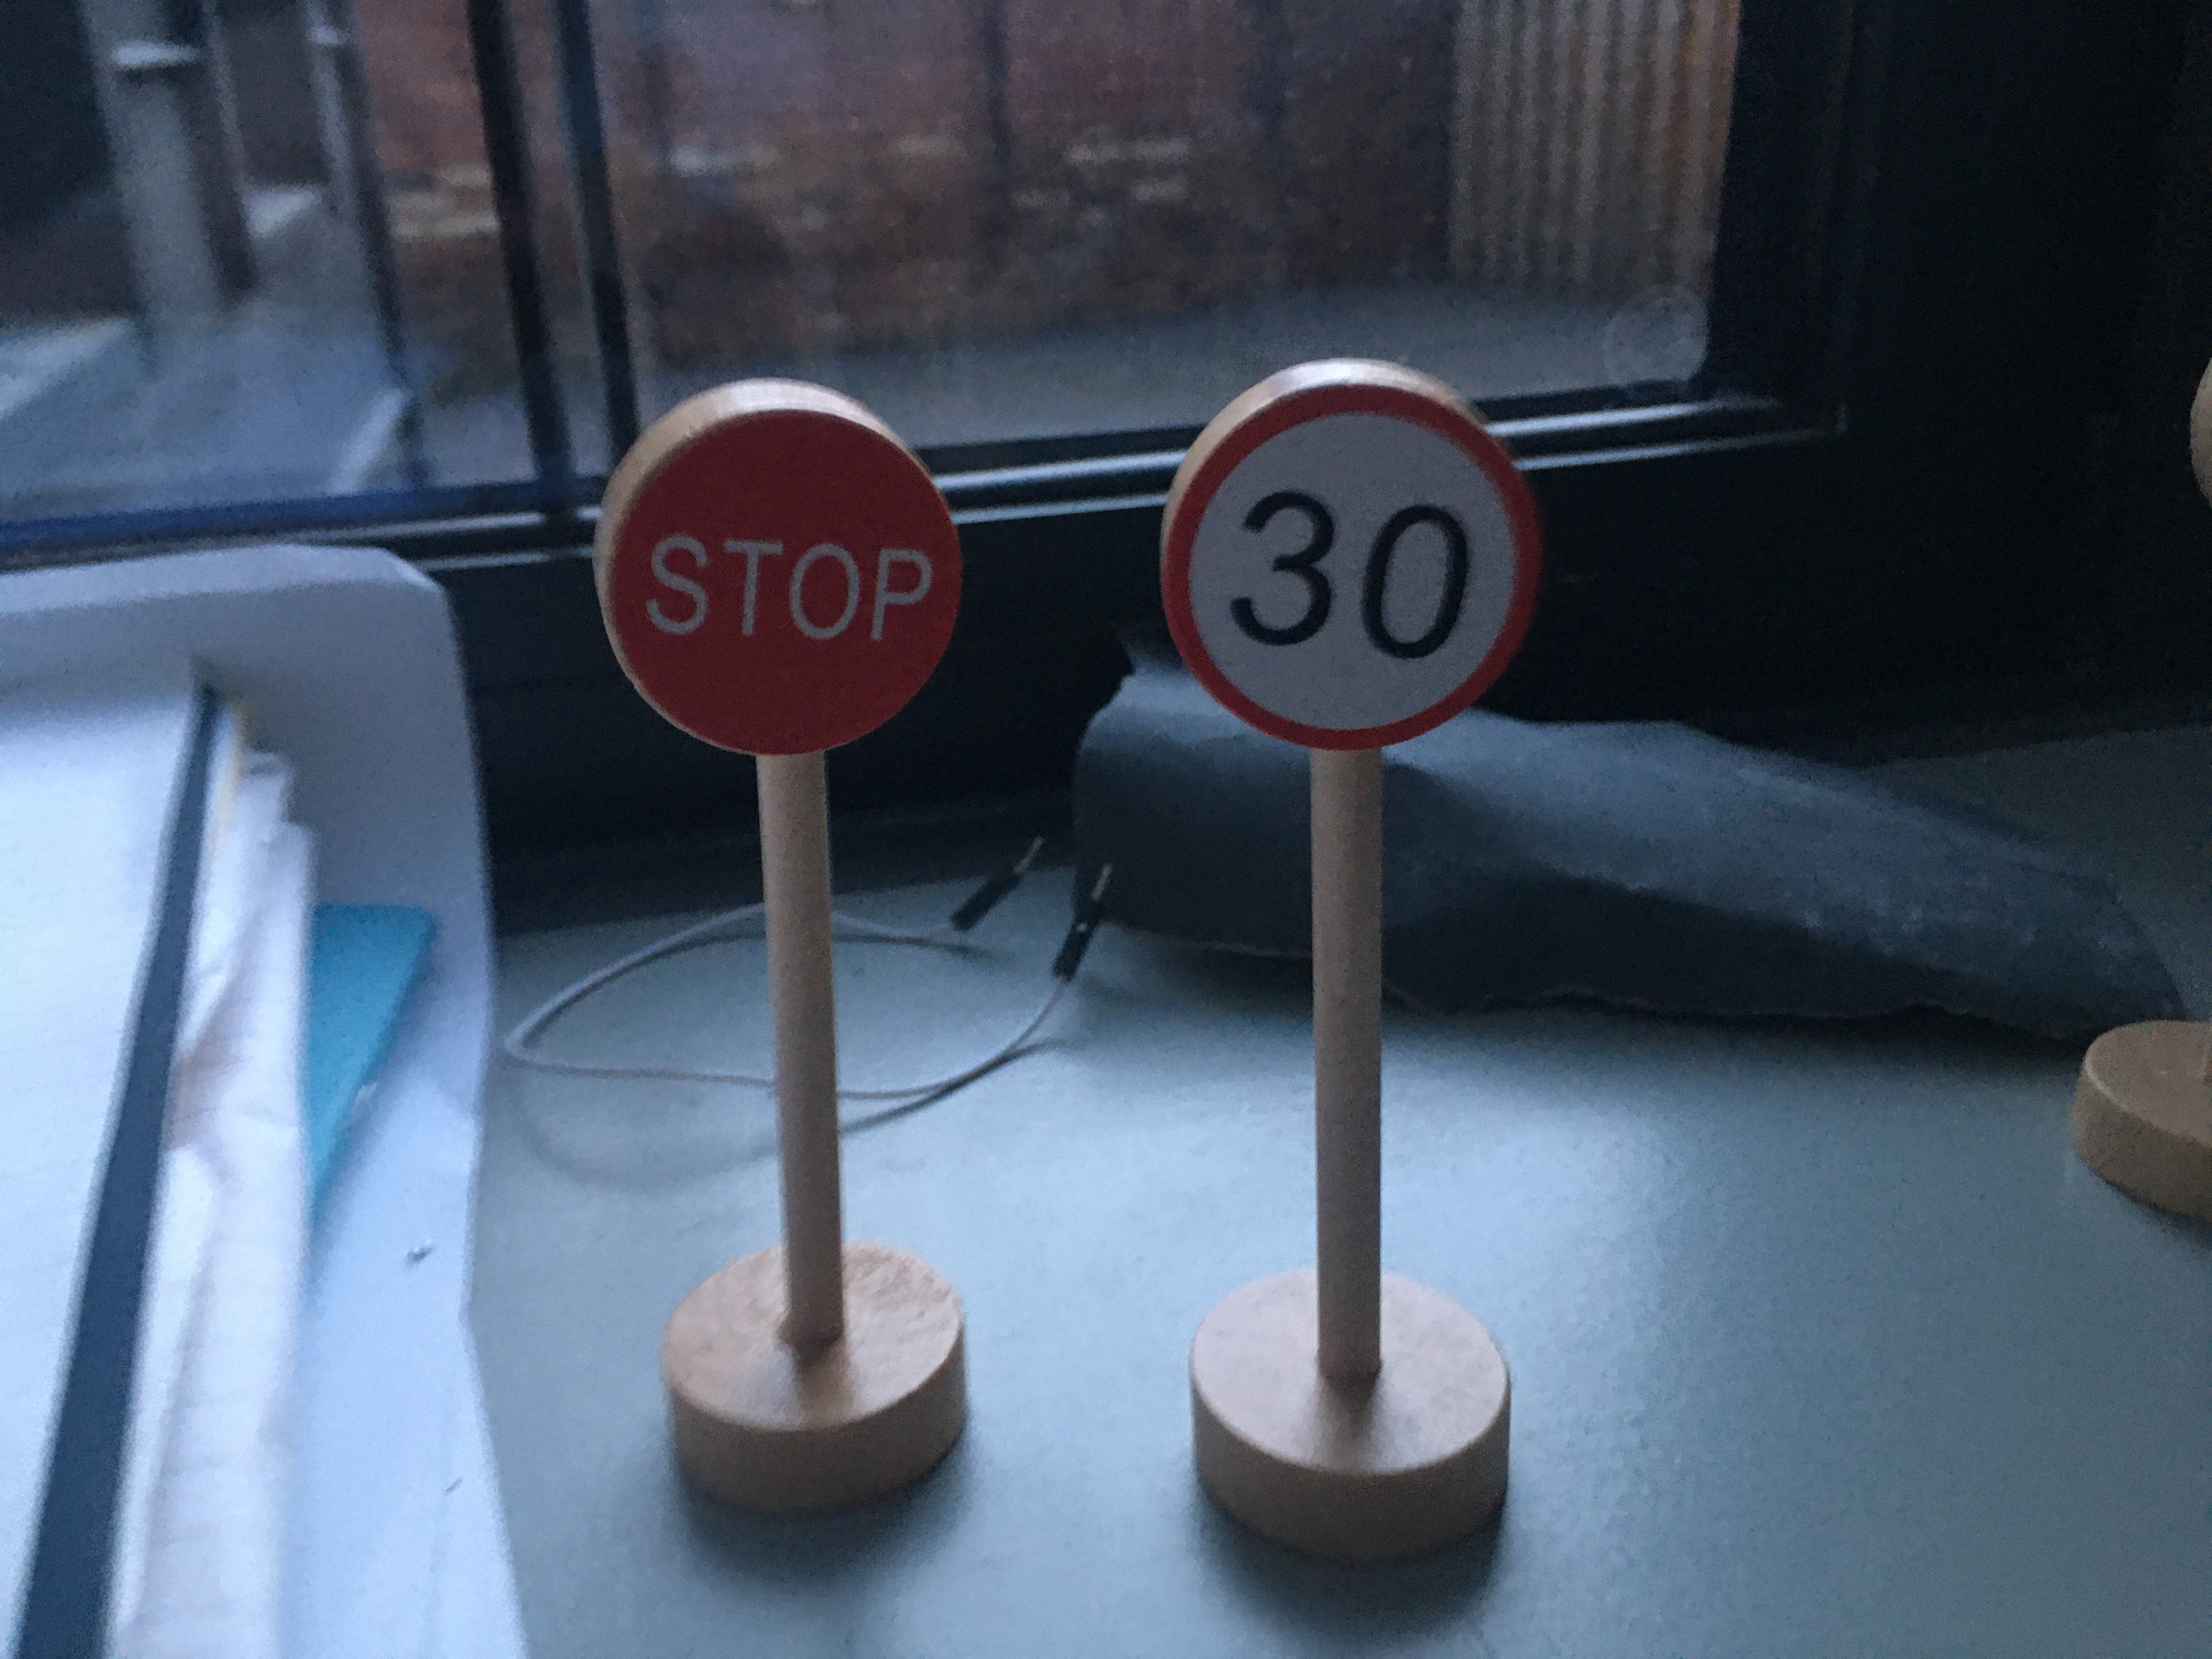Traffic_Sign_30: (1170, 385, 1529, 742)
Traffic_Sign_Stop: (622, 410, 954, 758)
